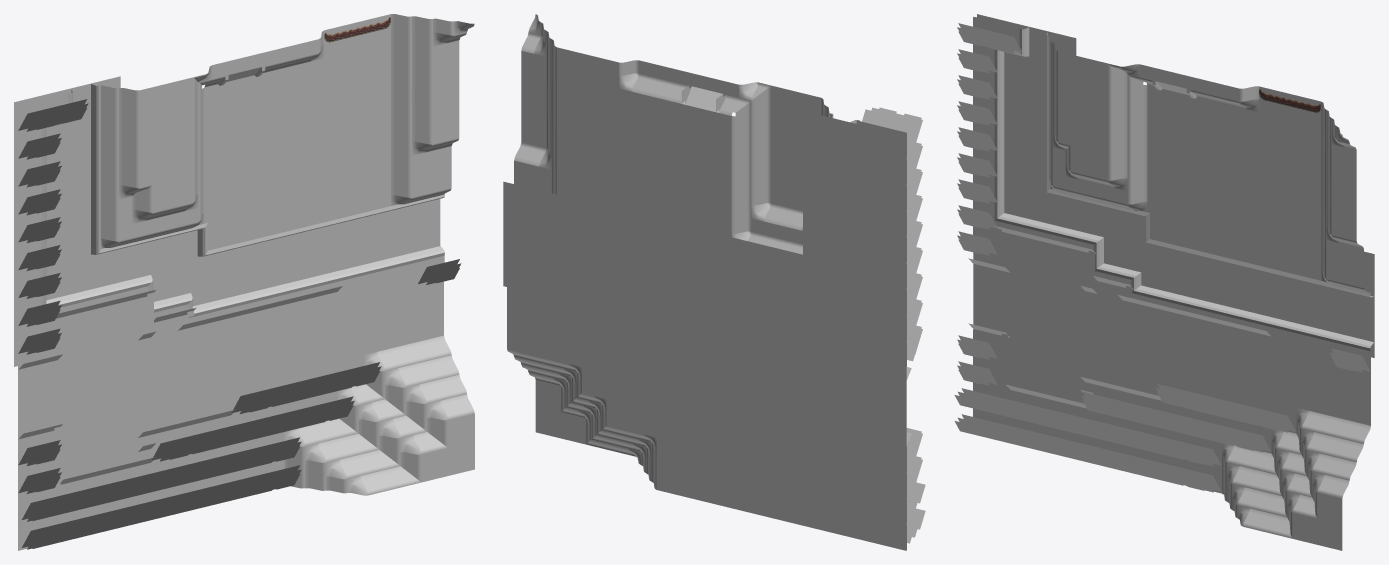
File: Plat_full_05_14.obj
3 renders of one model, left to right at view 1: azimuth 30°, elevation 25°; view 2: azimuth 150°, elevation 25°; view 3: azimuth 330°, elevation 25°, orthographic. The views are drawn at different scales.
Visible parts, largest first — view 1: map; view 2: map; view 3: map.
Boxes of the visible parts, box(x1,y1,x2,y2) form: map: box(14, 14, 474, 550); map: box(503, 14, 925, 550); map: box(954, 14, 1374, 550).
Bounding box in the file's own units: 32.5 × 32.12 × 4.5.
